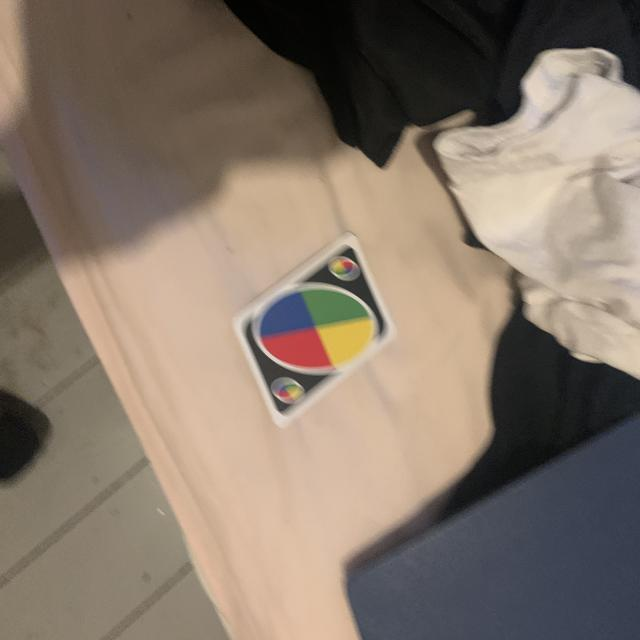lcolor-40: (270, 374, 308, 409)
